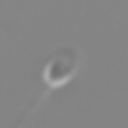normal: (12, 86, 53, 128)
